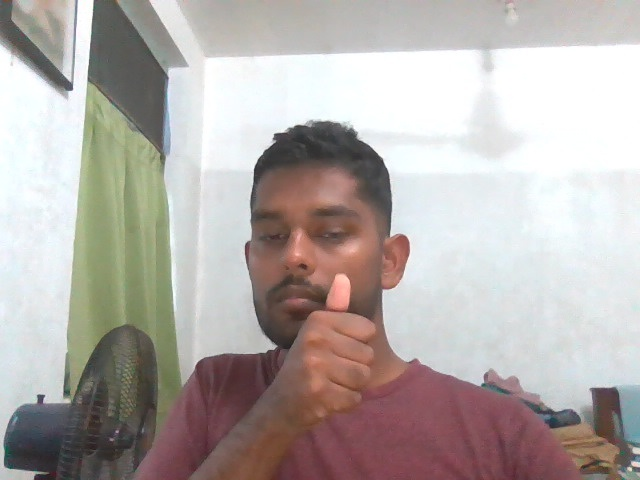good.: (271, 269, 386, 425)
